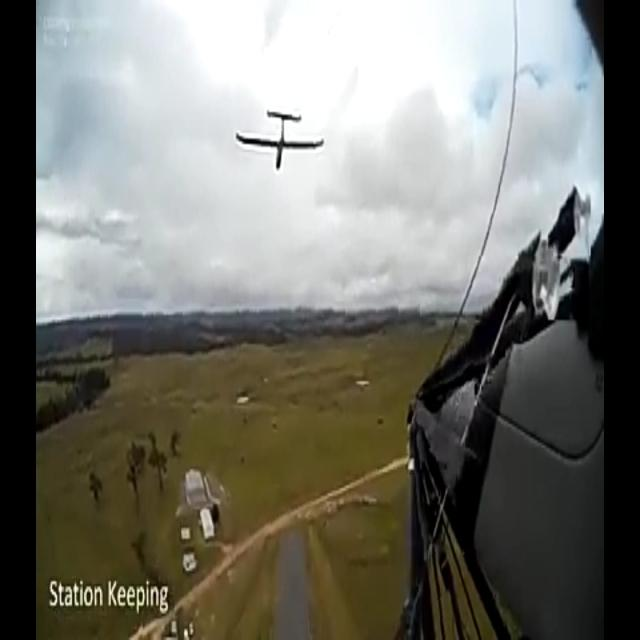iha: (266, 132, 293, 136)
